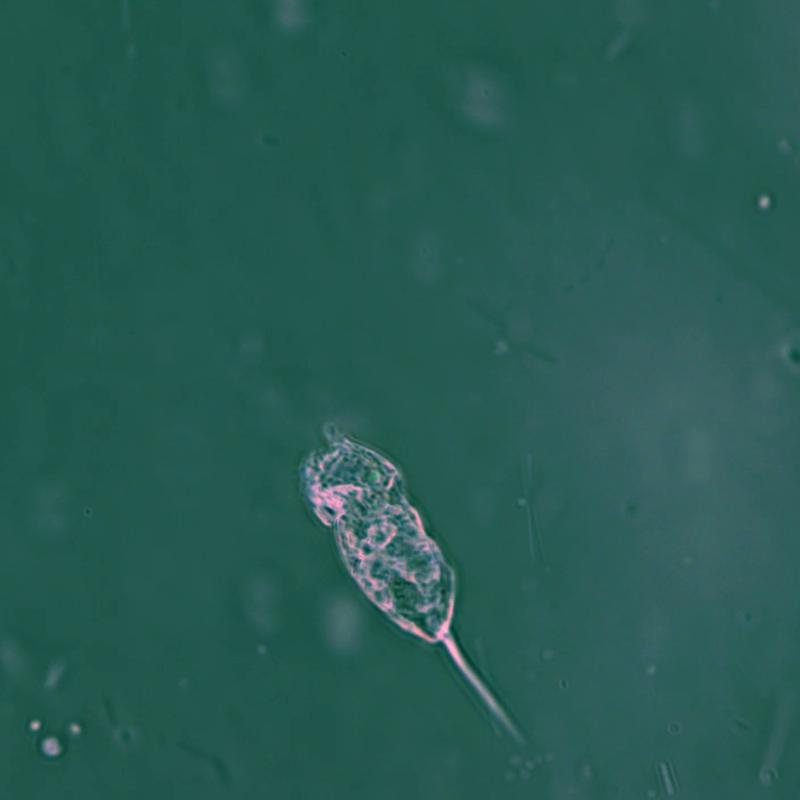depth:0: (270, 405, 582, 745)
